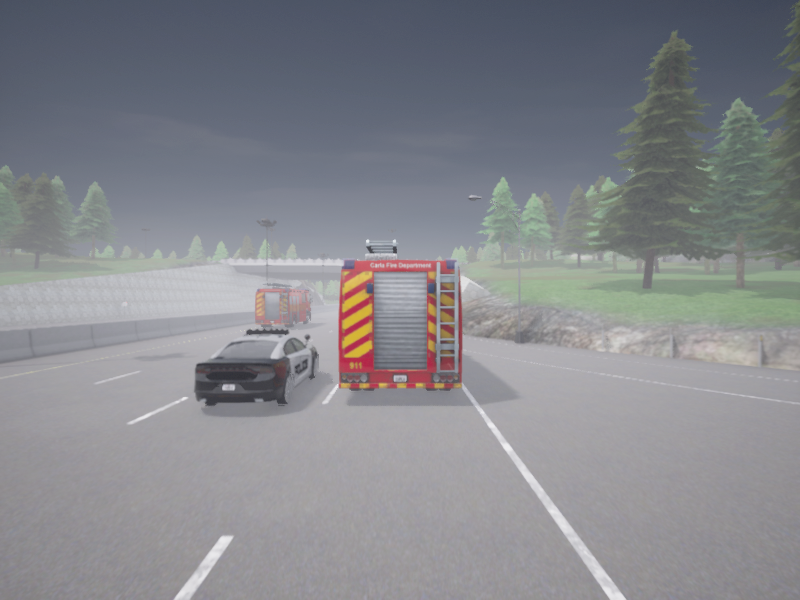vehicle: (338, 240, 461, 389), (194, 328, 317, 404), (255, 283, 312, 327)
